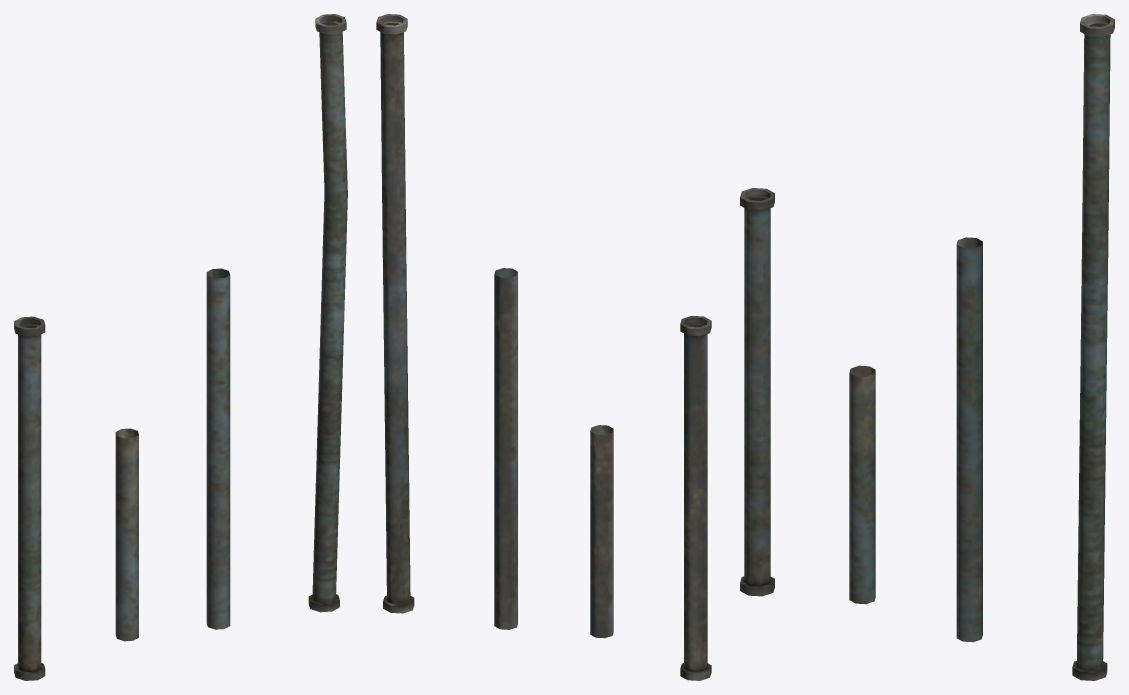
File: ThickPipes.FBX
The picture shows the model from 3 angles, left to right: view 1: azimuth 30°, elevation 25°; view 2: azimuth 150°, elevation 25°; view 3: azimuth 330°, elevation 25°; orthographic projection. The views are drawn at different scales.
Visible parts, largest first — view 1: ThickPipes_04, ThickPipes_01, ThickPipes_03, ThickPipes_02; view 2: ThickPipes_04, ThickPipes_03, ThickPipes_01, ThickPipes_02; view 3: ThickPipes_04, ThickPipes_03, ThickPipes_01, ThickPipes_02.
Boxes of the visible parts, bbox=[...] form: ThickPipes_04: bbox=[308, 14, 347, 612]; ThickPipes_01: bbox=[206, 268, 230, 629]; ThickPipes_03: bbox=[14, 316, 45, 680]; ThickPipes_02: bbox=[115, 428, 138, 641]; ThickPipes_04: bbox=[376, 14, 414, 613]; ThickPipes_03: bbox=[680, 316, 711, 680]; ThickPipes_01: bbox=[494, 268, 517, 629]; ThickPipes_02: bbox=[590, 425, 613, 638]; ThickPipes_04: bbox=[1072, 14, 1114, 680]; ThickPipes_03: bbox=[740, 188, 774, 596]; ThickPipes_01: bbox=[956, 237, 982, 642]; ThickPipes_02: bbox=[849, 365, 875, 604].
Bounding box in the file's own units: 188 × 317 × 17.44.
